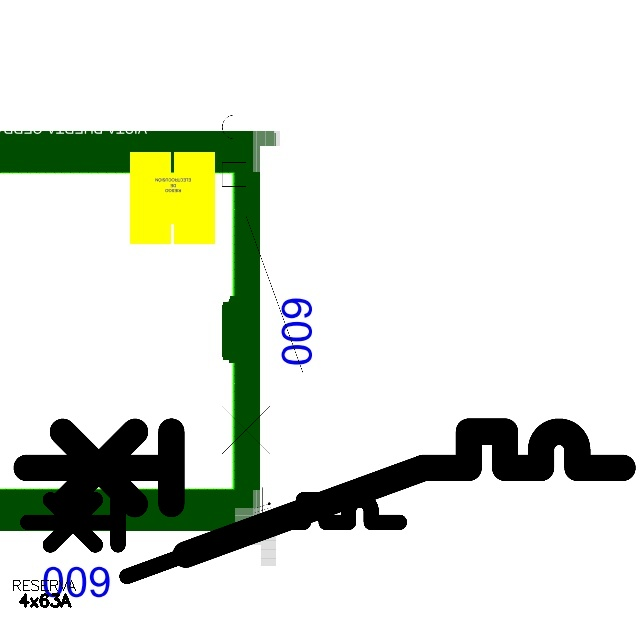interruptor_termomagnetico: (11, 416, 638, 569), (212, 75, 313, 488), (18, 490, 409, 585)
